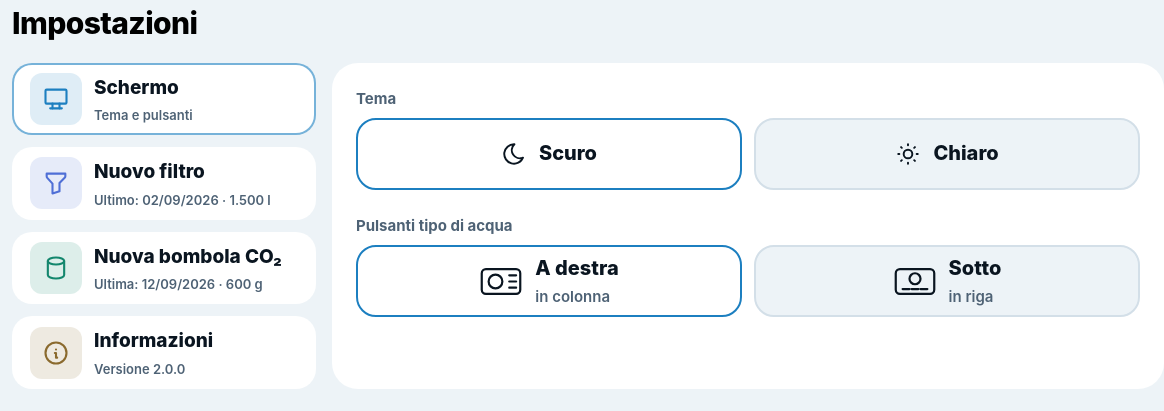
Test case: SettingsScreen › shows the version under the info entry
Step 1. Click the button "Informazioni Versione 2.0.0" → click(164, 352), box [12,316,316,389]
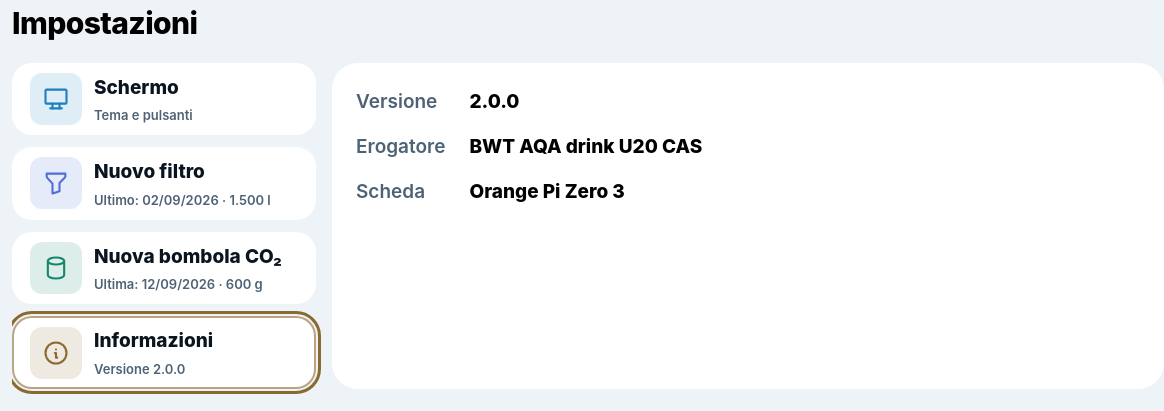
Expected: the text "Orange Pi Zero 3" is shown, [470,180,625,203]
